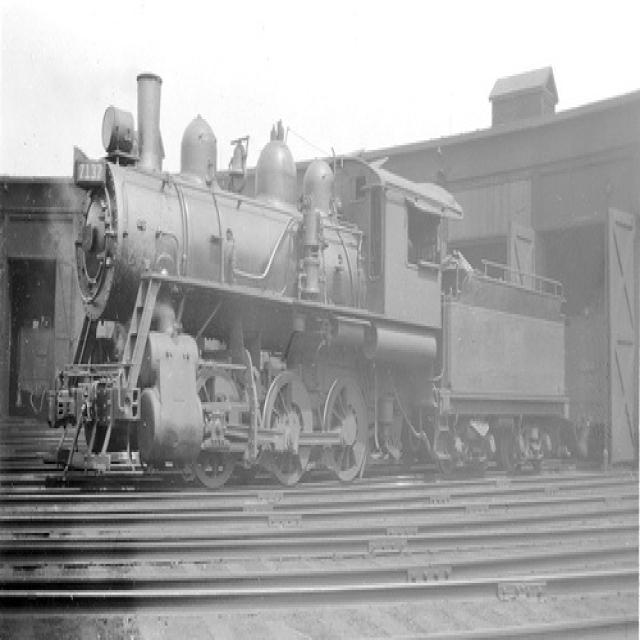train: (44, 66, 568, 488)
